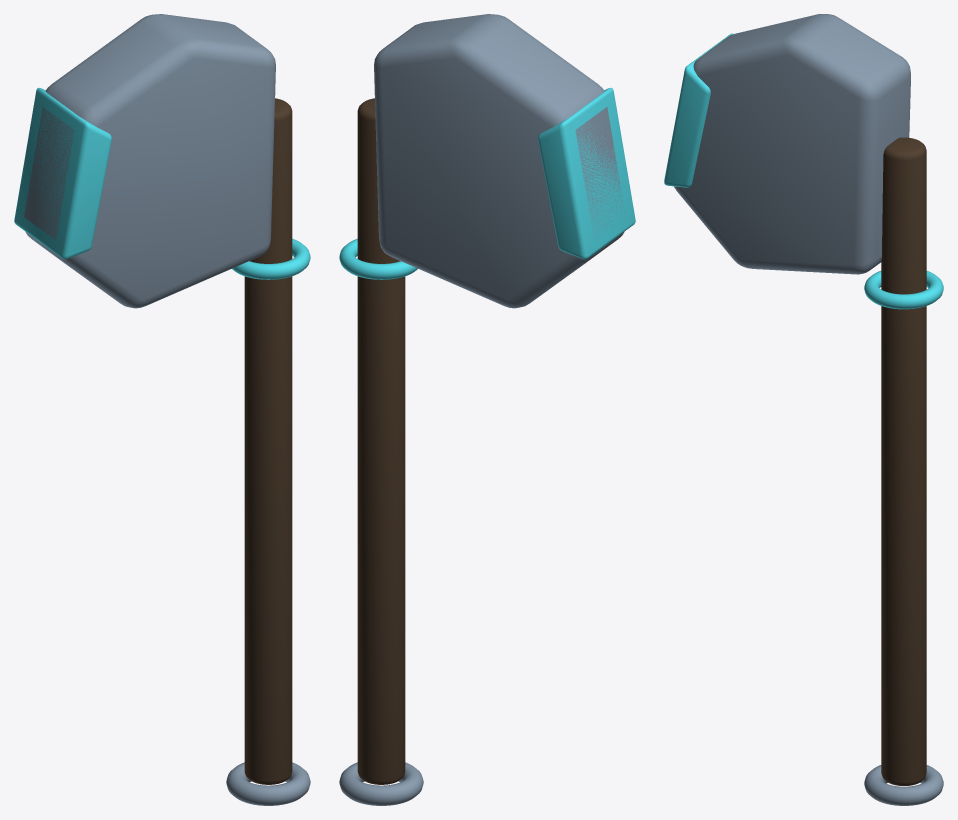
The model's file is axe.glb.
3 views of the same model, side by side, from view 1: azimuth 30°, elevation 25°; view 2: azimuth 150°, elevation 25°; view 3: azimuth 330°, elevation 25° (orthographic). The views are drawn at different scales.
Visible parts, largest first — view 1: AXE_HEAD_PRIMARY, HAFT_SECONDARY, AXE_EDGE_ACCENT, AXE_POMMEL_PRIMARY, AXE_COLLAR_ACCENT; view 2: AXE_HEAD_PRIMARY, HAFT_SECONDARY, AXE_EDGE_ACCENT, AXE_POMMEL_PRIMARY, AXE_COLLAR_ACCENT; view 3: AXE_HEAD_PRIMARY, HAFT_SECONDARY, AXE_EDGE_ACCENT, AXE_POMMEL_PRIMARY, AXE_COLLAR_ACCENT.
Part boxes in pixels (x1=…): AXE_HEAD_PRIMARY: x1=24, y1=14, x2=275, y2=308; HAFT_SECONDARY: x1=244, y1=98, x2=292, y2=784; AXE_EDGE_ACCENT: x1=14, y1=88, x2=111, y2=259; AXE_POMMEL_PRIMARY: x1=226, y1=762, x2=310, y2=805; AXE_COLLAR_ACCENT: x1=232, y1=238, x2=310, y2=279; AXE_HEAD_PRIMARY: x1=374, y1=14, x2=624, y2=308; HAFT_SECONDARY: x1=357, y1=98, x2=405, y2=784; AXE_EDGE_ACCENT: x1=538, y1=88, x2=635, y2=259; AXE_POMMEL_PRIMARY: x1=339, y1=762, x2=423, y2=805; AXE_COLLAR_ACCENT: x1=339, y1=238, x2=417, y2=279; AXE_HEAD_PRIMARY: x1=674, y1=14, x2=910, y2=274; HAFT_SECONDARY: x1=881, y1=137, x2=926, y2=785; AXE_EDGE_ACCENT: x1=664, y1=33, x2=733, y2=187; AXE_POMMEL_PRIMARY: x1=864, y1=765, x2=943, y2=805; AXE_COLLAR_ACCENT: x1=864, y1=271, x2=943, y2=309.
Bounding box in the file's own units: 1.35 × 3.81 × 0.46.
